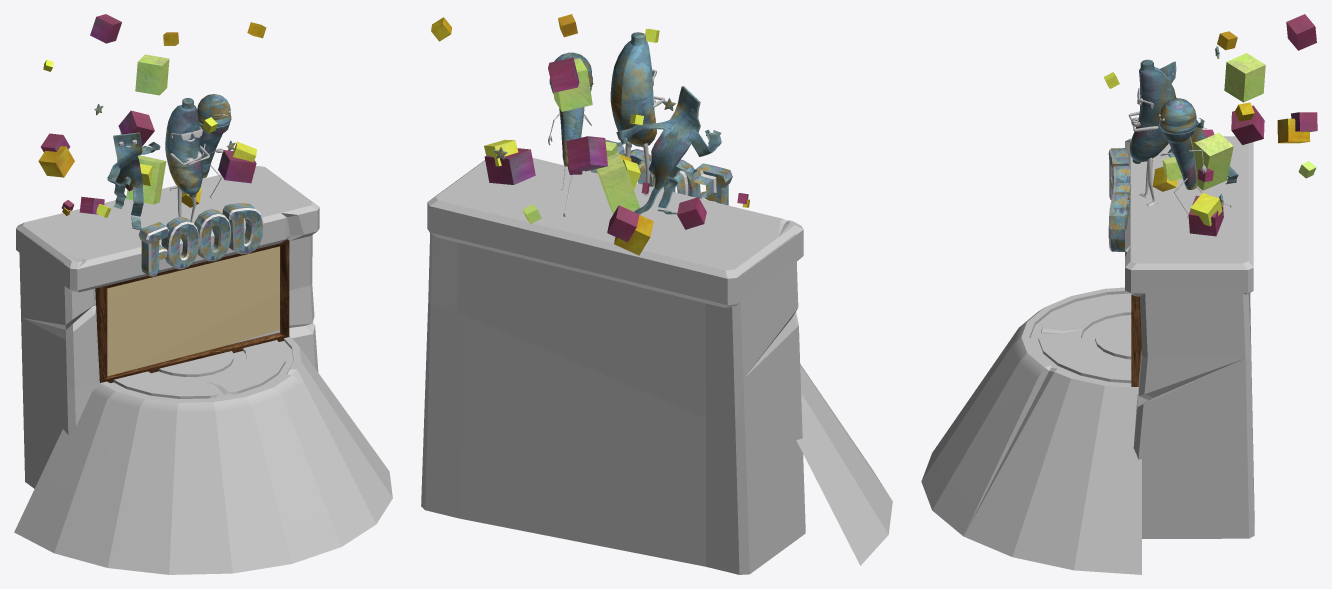
File: Str_Stand_Food_01_Art.fbx
3 views of the same model, side by side, from view 1: azimuth 30°, elevation 25°; view 2: azimuth 150°, elevation 25°; view 3: azimuth 270°, elevation 25° (orthographic). The views are drawn at different scales.
Visible parts, largest first — view 1: Str_Stand_Food_01; view 2: Str_Stand_Food_01; view 3: Str_Stand_Food_01.
Boxes of the visible parts, x1=… form: Str_Stand_Food_01: x1=14, y1=14, x2=392, y2=574; Str_Stand_Food_01: x1=421, y1=14, x2=892, y2=574; Str_Stand_Food_01: x1=921, y1=14, x2=1317, y2=574.
Bounding box in the file's own units: 1541 × 1767 × 1383.
